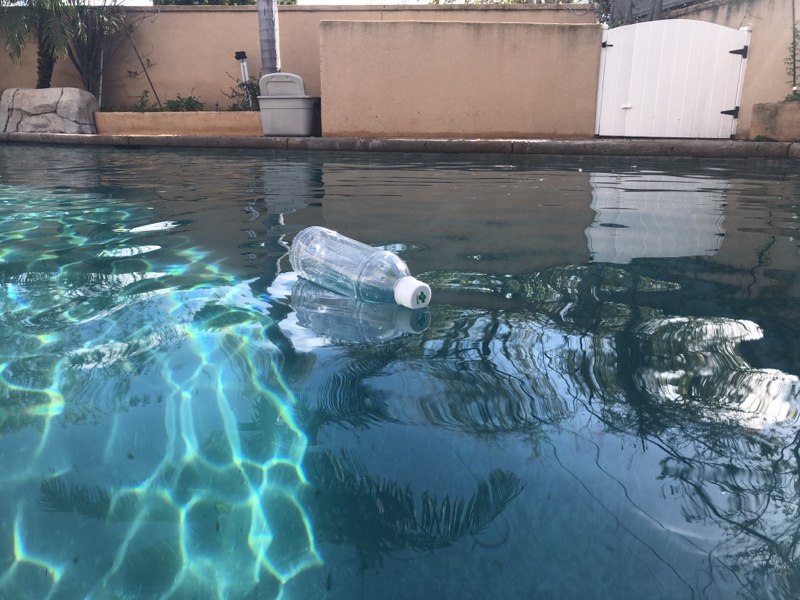Plastic Bottle: (286, 225, 433, 316)
